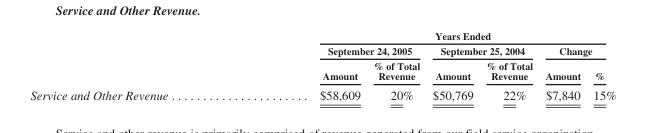table: (29, 29, 615, 102)
table column: (29, 29, 243, 102), (243, 29, 366, 102), (366, 29, 425, 102), (479, 29, 538, 102), (425, 29, 479, 102), (538, 29, 586, 102), (586, 29, 615, 102)
table column header: (29, 29, 615, 84)
table row: (29, 57, 615, 84), (29, 84, 615, 102), (29, 42, 615, 57), (29, 29, 615, 42)
table spanning cell: (243, 29, 615, 42), (243, 42, 425, 57), (425, 42, 538, 57), (538, 42, 615, 57)
